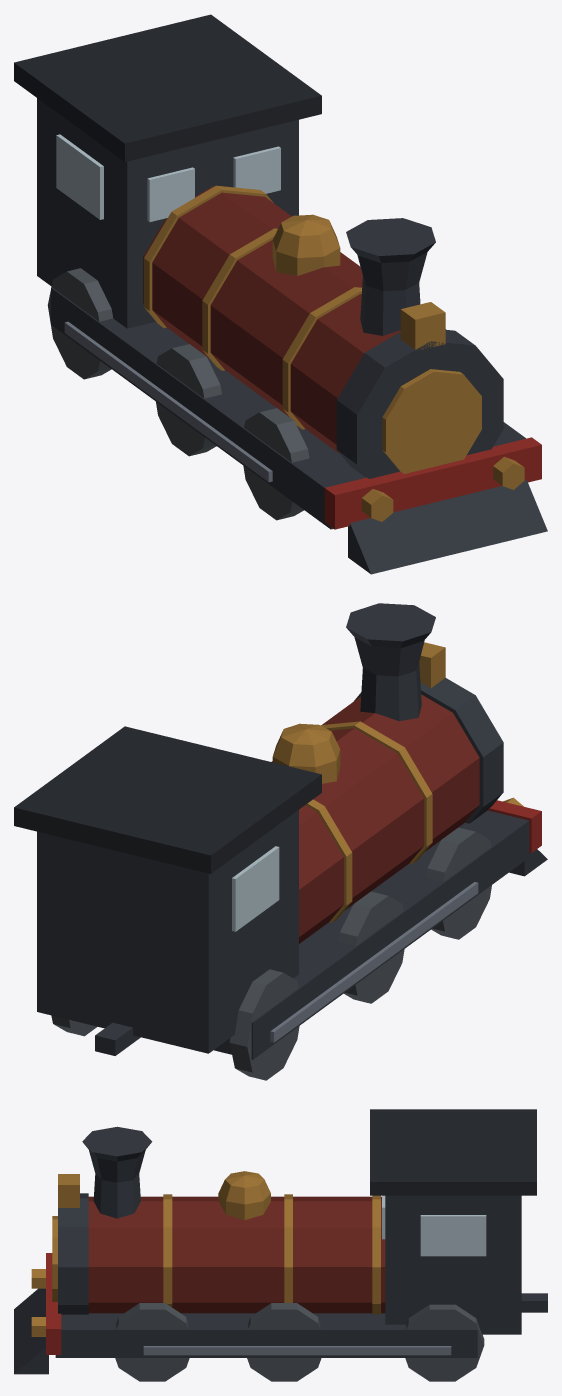
Rendered from loco.glb.
The picture shows the model from 3 angles, top to bottom: view 1: azimuth 30°, elevation 25°; view 2: azimuth 150°, elevation 25°; view 3: azimuth 270°, elevation 25°; orthographic projection. The views are drawn at different scales.
Visible parts, largest first — view 1: loco; view 2: loco; view 3: loco.
Boxes of the visible parts, x1,y1,x2,y2 form: loco: (14, 14, 547, 574); loco: (14, 603, 547, 1080); loco: (14, 1109, 547, 1381).
Bounding box in the file's own units: 0.8292 × 1.02 × 2.43.
